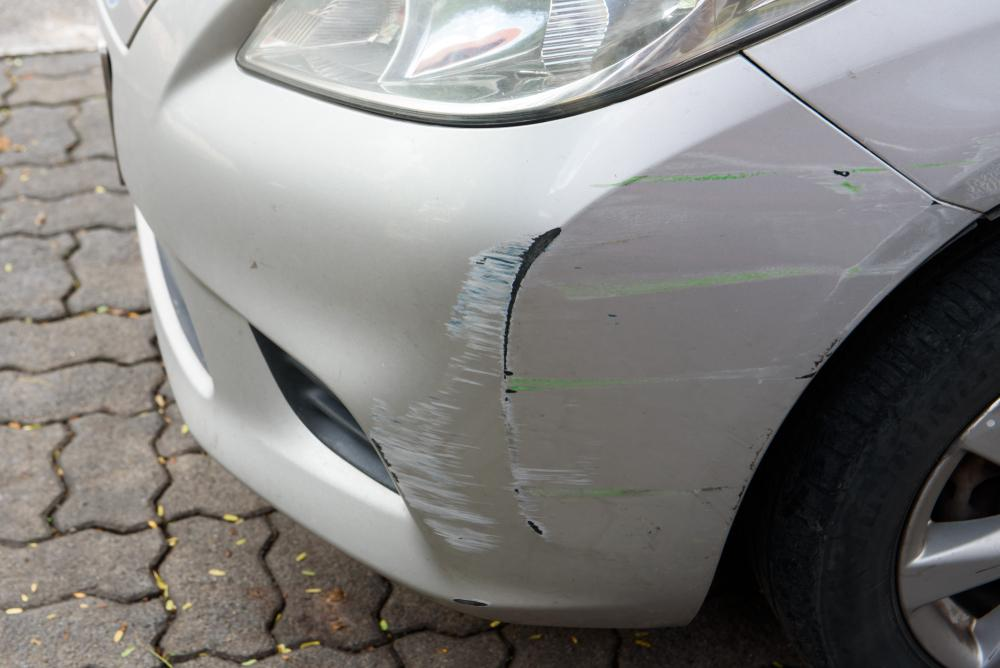scratch: (362, 144, 977, 556), (877, 125, 1000, 214)
